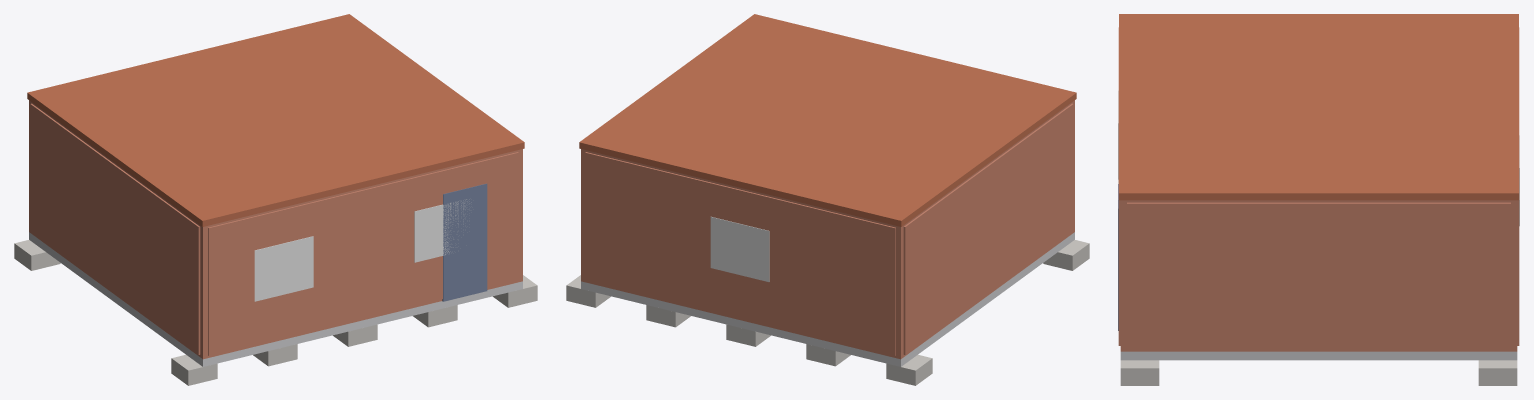
The model's file is Studio-20-Base-BrickRed-LOD1.glb.
The picture shows the model from 3 angles, left to right: view 1: azimuth 30°, elevation 25°; view 2: azimuth 150°, elevation 25°; view 3: azimuth 270°, elevation 25°; orthographic projection. The views are drawn at different scales.
Parts seen in each view (by area): view 1: RoofMain, ExteriorPanelsStandard, WindowsStandard, EntryDoor, FoundationBlocks, BaseFrame, ExteriorShell; view 2: ExteriorPanelsStandard, RoofMain, FoundationBlocks, BaseFrame, ExteriorShell, WindowsStandard; view 3: RoofMain, ExteriorPanelsStandard, ExteriorShell, BaseFrame, FoundationBlocks.
Boxes of the visible parts, bbox=[...] form: RoofMain: bbox=[27, 14, 524, 226]; ExteriorPanelsStandard: bbox=[30, 103, 518, 355]; WindowsStandard: bbox=[254, 199, 471, 301]; EntryDoor: bbox=[442, 183, 487, 301]; FoundationBlocks: bbox=[14, 240, 537, 385]; BaseFrame: bbox=[29, 232, 522, 366]; ExteriorShell: bbox=[29, 100, 522, 359]; ExteriorPanelsStandard: bbox=[585, 103, 1073, 355]; RoofMain: bbox=[579, 14, 1076, 226]; FoundationBlocks: bbox=[566, 240, 1089, 385]; BaseFrame: bbox=[581, 232, 1074, 366]; ExteriorShell: bbox=[581, 100, 1074, 359]; WindowsStandard: bbox=[710, 216, 769, 281]; RoofMain: bbox=[1119, 14, 1518, 200]; ExteriorPanelsStandard: bbox=[1118, 27, 1519, 349]; ExteriorShell: bbox=[1120, 200, 1517, 351]; BaseFrame: bbox=[1120, 351, 1517, 360]; FoundationBlocks: bbox=[1120, 360, 1517, 385].
Bounding box in the file's own units: 7.14 × 3.17 × 6.24.
